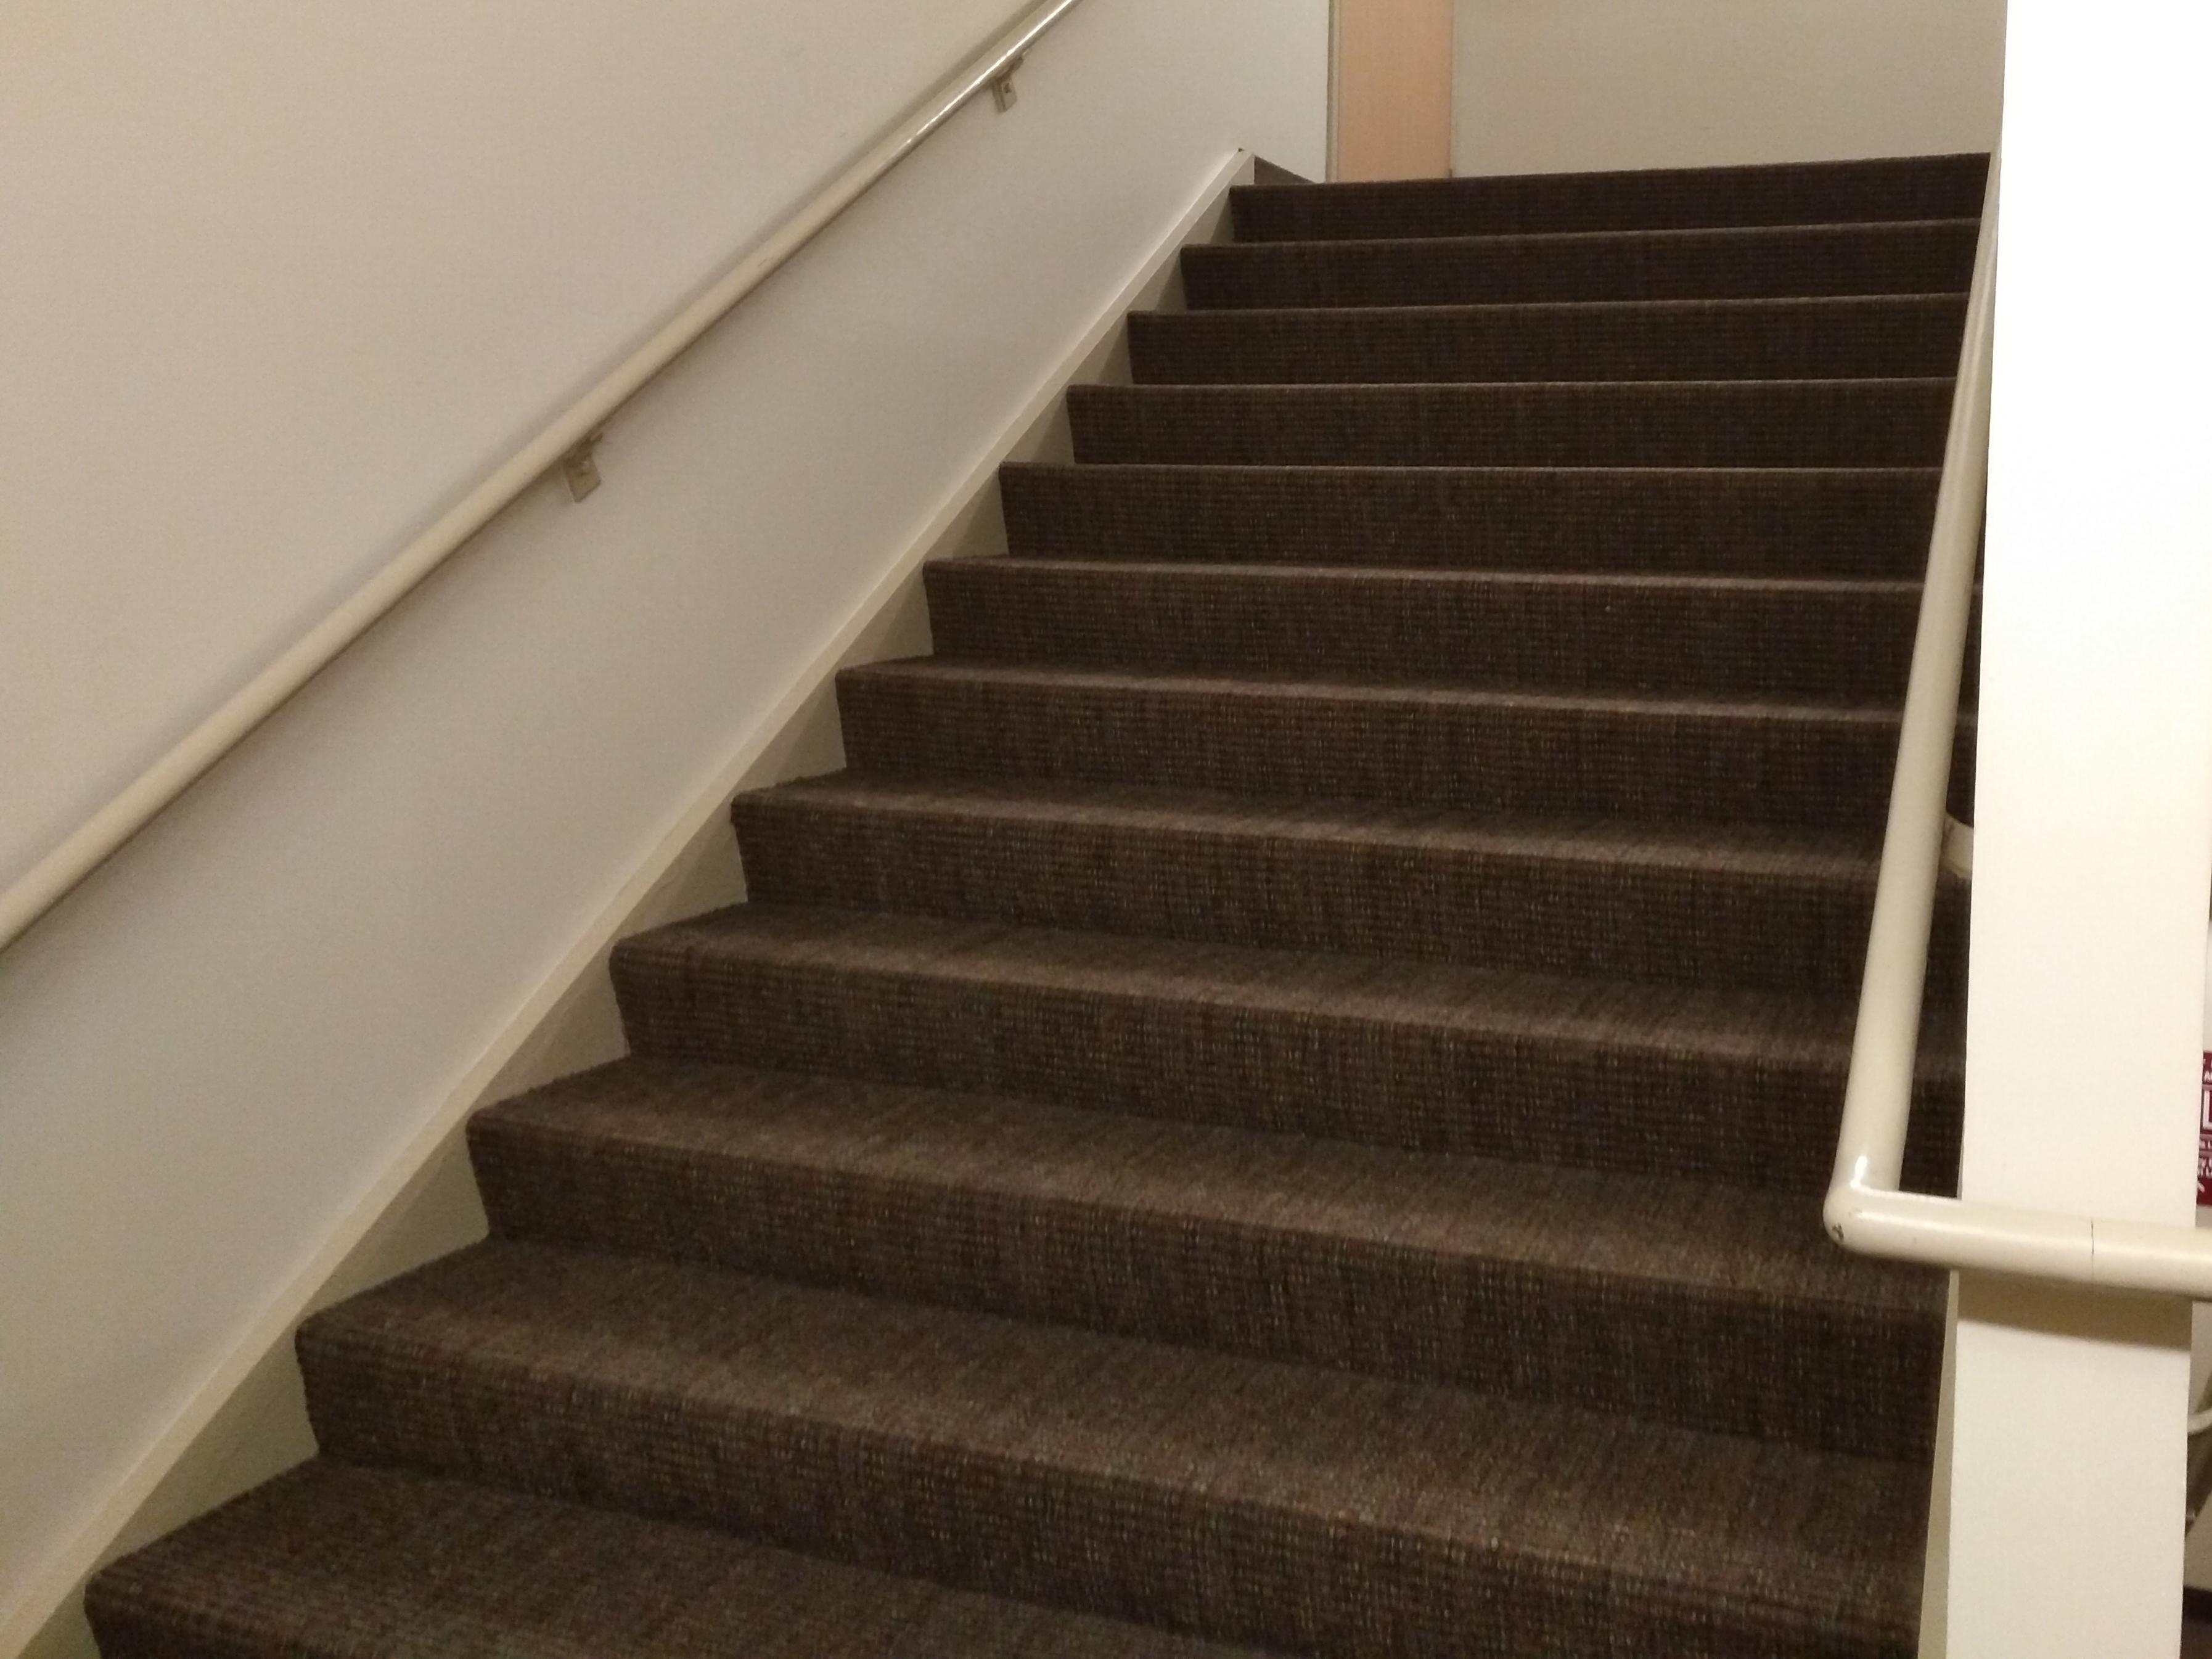stairs_up: (89, 162, 1965, 1626)
